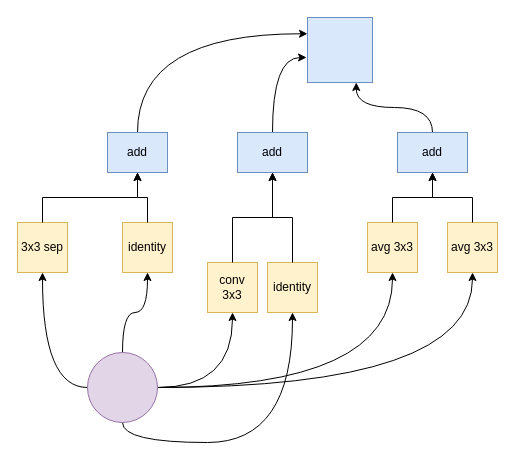
The diagram is 515 pixels wide and 460 high, and some of its shapes have lost their labels. The centre of each missing label's shape, as x and y in pixels:
concat: the point at 339,49
Input: the point at 122,387
